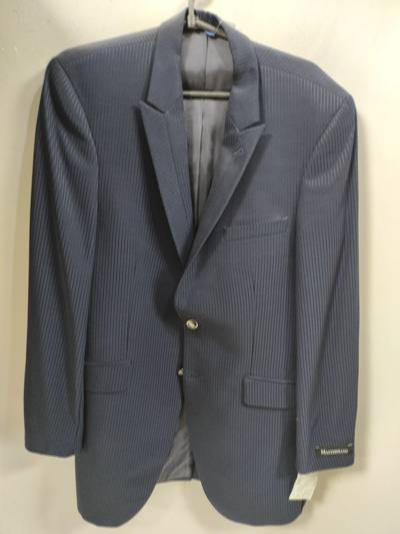Blazer: (15, 26, 374, 528)
